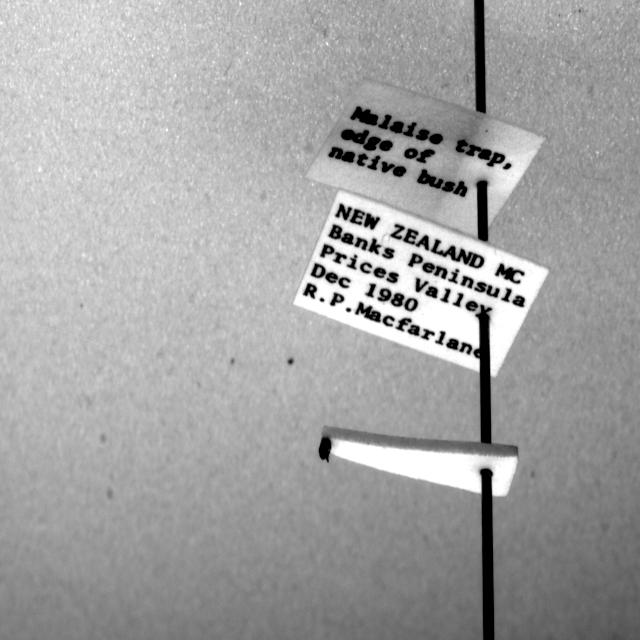typed_label: (294, 191, 548, 377), (308, 79, 545, 236)
